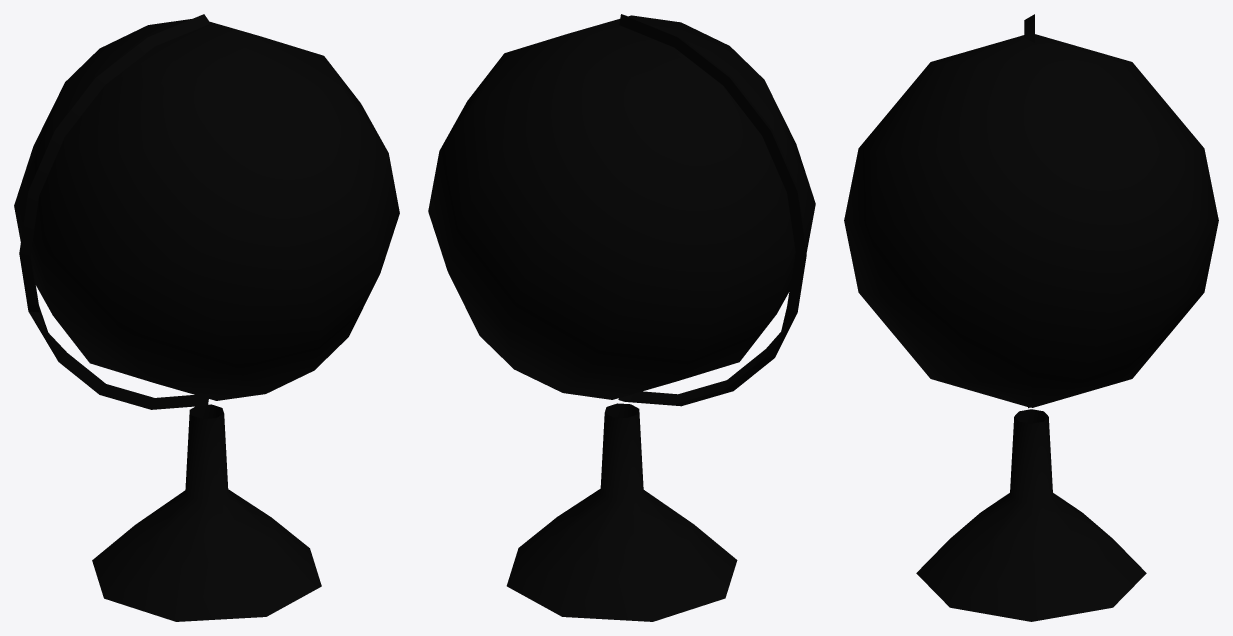
The model's file is SM_globe.fbx.
3 views of the same model, side by side, from view 1: azimuth 30°, elevation 25°; view 2: azimuth 150°, elevation 25°; view 3: azimuth 270°, elevation 25° (orthographic). The views are drawn at different scales.
Visible parts, largest first — view 1: globe_ball, globe; view 2: globe_ball, globe; view 3: globe_ball, globe.
Part boxes in pixels (x1,y1,x2,y2): globe_ball: (14, 19, 399, 400); globe: (19, 14, 321, 621); globe_ball: (428, 15, 815, 399); globe: (506, 14, 806, 621); globe_ball: (844, 34, 1218, 407); globe: (916, 14, 1146, 621).
Bounding box in the file's own units: 0.2743 × 0.4143 × 0.26.
